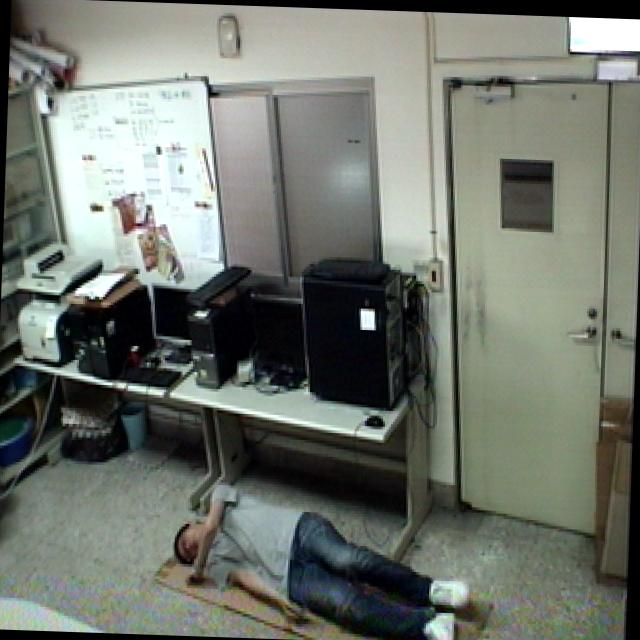lie: (167, 473, 482, 640)
